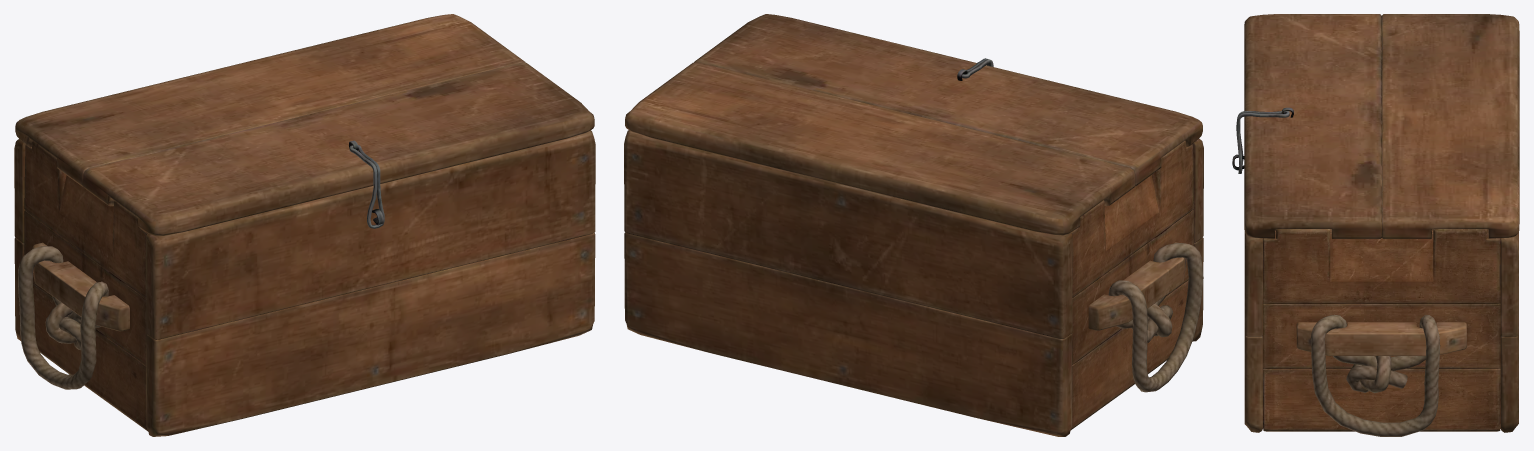
File: wooden_crate_01_1k.glb
3 views of the same model, side by side, from view 1: azimuth 30°, elevation 25°; view 2: azimuth 150°, elevation 25°; view 3: azimuth 270°, elevation 25° (orthographic). The views are drawn at different scales.
Visible parts, largest first — view 1: wooden_crate_01_lid; view 2: wooden_crate_01_lid; view 3: wooden_crate_01_lid.
Part boxes in pixels (x1,y1,x2,y2): wooden_crate_01_lid: [14, 14, 595, 436]; wooden_crate_01_lid: [624, 14, 1203, 436]; wooden_crate_01_lid: [1232, 14, 1519, 436].
Bounding box in the file's own units: 0.8253 × 0.3496 × 0.4089.
Materials: 1 (1 with a texture image).
